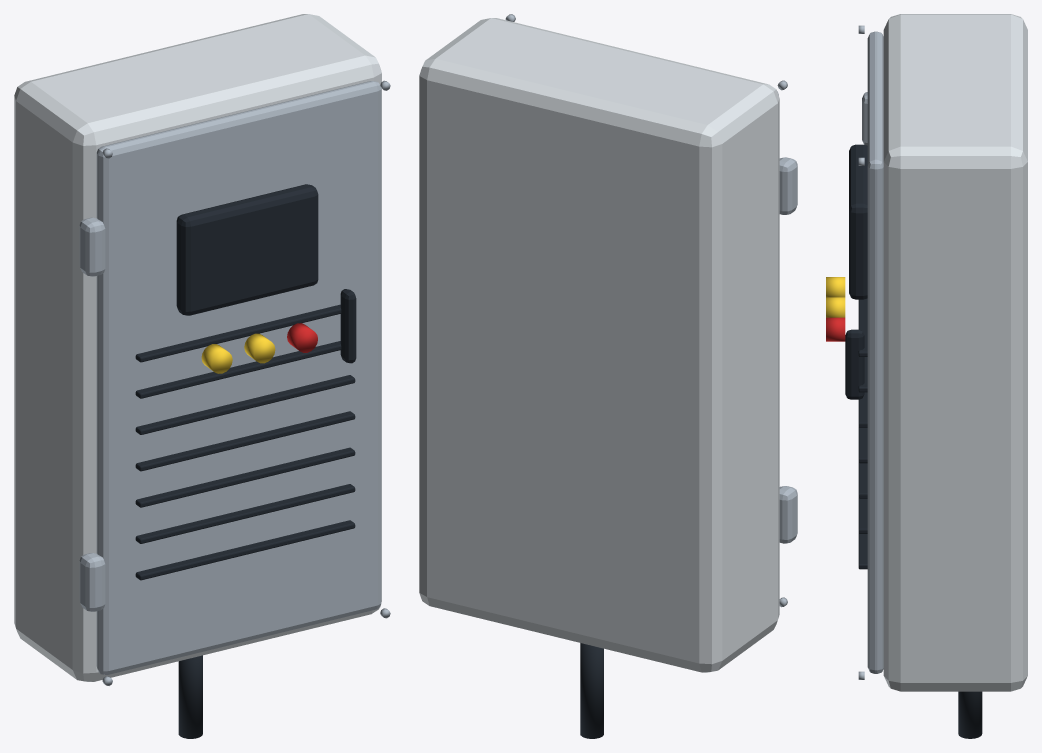
File: plc.glb
3 renders of one model, left to right at view 1: azimuth 30°, elevation 25°; view 2: azimuth 150°, elevation 25°; view 3: azimuth 270°, elevation 25°, orthographic. The views are drawn at different scales.
Parts seen in each view (by area): view 1: Gasketed access door, plc, Ventilation louvre, Switch, Switch.002; view 2: plc, Gasketed access door, Ventilation louvre; view 3: plc, Gasketed access door, Ventilation louvre, Switch, Switch.002.
Boxes of the visible parts, x1,y1,x2,y2 form: Gasketed access door: (79, 80, 390, 685); plc: (14, 14, 381, 681); Ventilation louvre: (135, 184, 356, 738); Switch: (201, 333, 275, 373); Switch.002: (287, 323, 317, 352); plc: (419, 18, 779, 672); Gasketed access door: (505, 14, 797, 607); Ventilation louvre: (580, 643, 603, 738); plc: (883, 14, 1027, 691); Gasketed access door: (858, 25, 883, 679); Ventilation louvre: (845, 144, 982, 738); Switch: (826, 277, 845, 317); Switch.002: (826, 317, 845, 341).
Bounding box in the file's own units: 0.7281 × 1.5 × 0.42.
